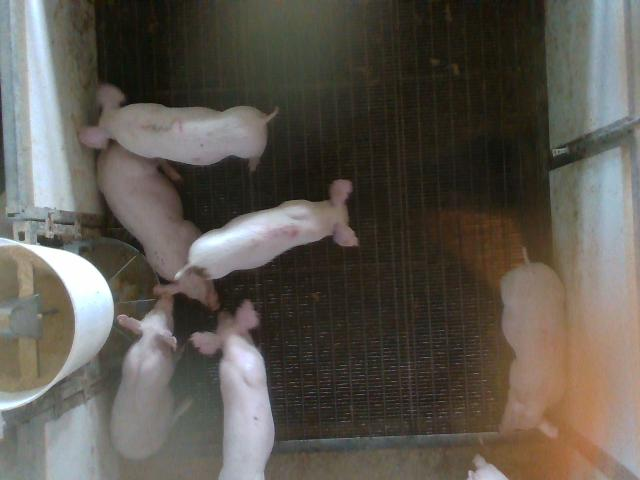pig-3: (79, 84, 276, 165)
pig-5: (185, 180, 358, 279)
